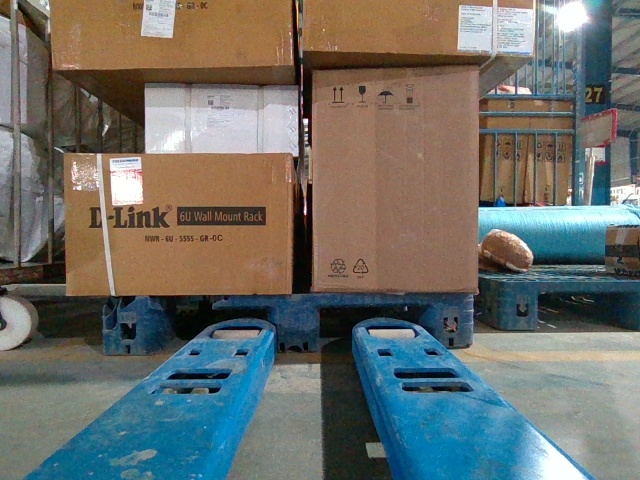block: (102, 296, 167, 352), (421, 291, 476, 349), (271, 294, 324, 352), (496, 282, 540, 329)
front: (102, 291, 476, 353)
hole pallet: (320, 305, 425, 355), (153, 308, 272, 352), (540, 291, 636, 332)
